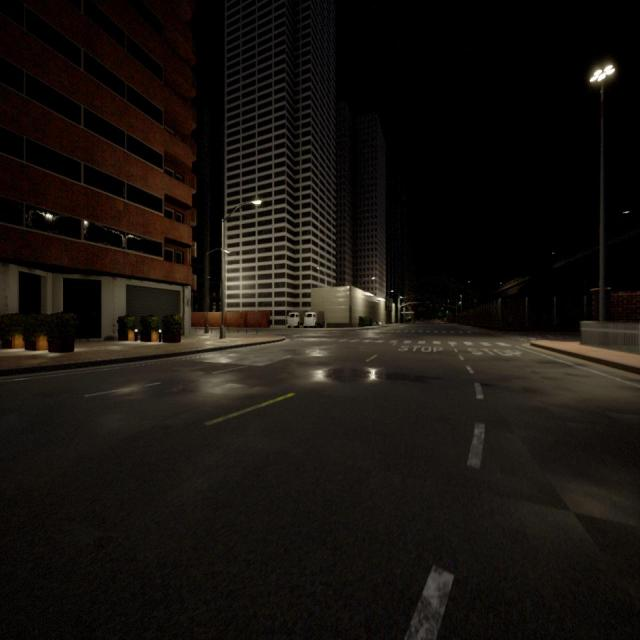Vehicle: (304, 312, 325, 328), (287, 312, 304, 328)
